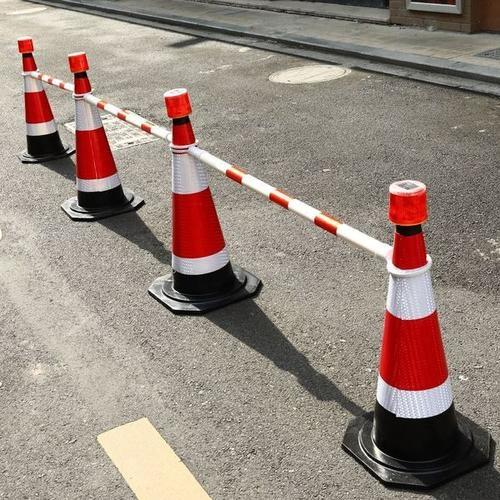cone_barrel: (361, 183, 470, 470), (152, 89, 252, 310), (63, 52, 137, 221), (14, 38, 66, 162)
